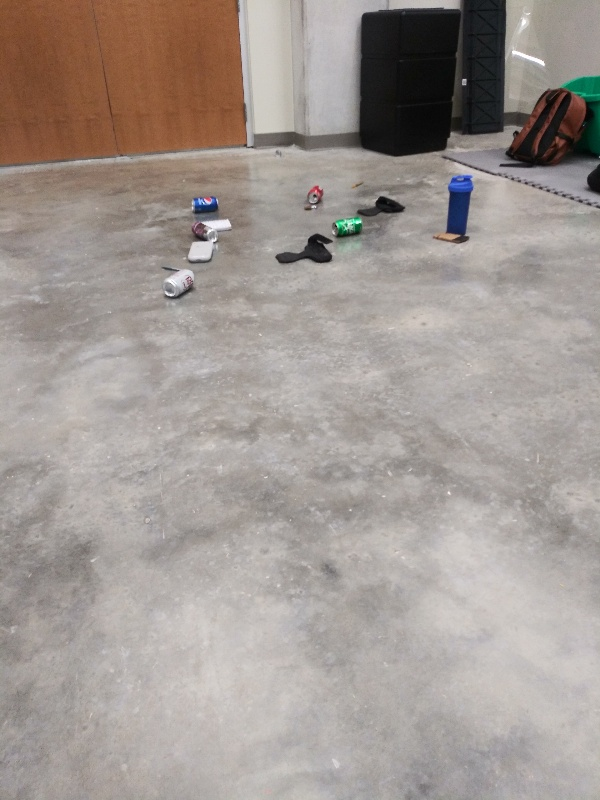can: (154, 267, 202, 297), (330, 216, 365, 238), (305, 183, 326, 206), (189, 196, 221, 209)
